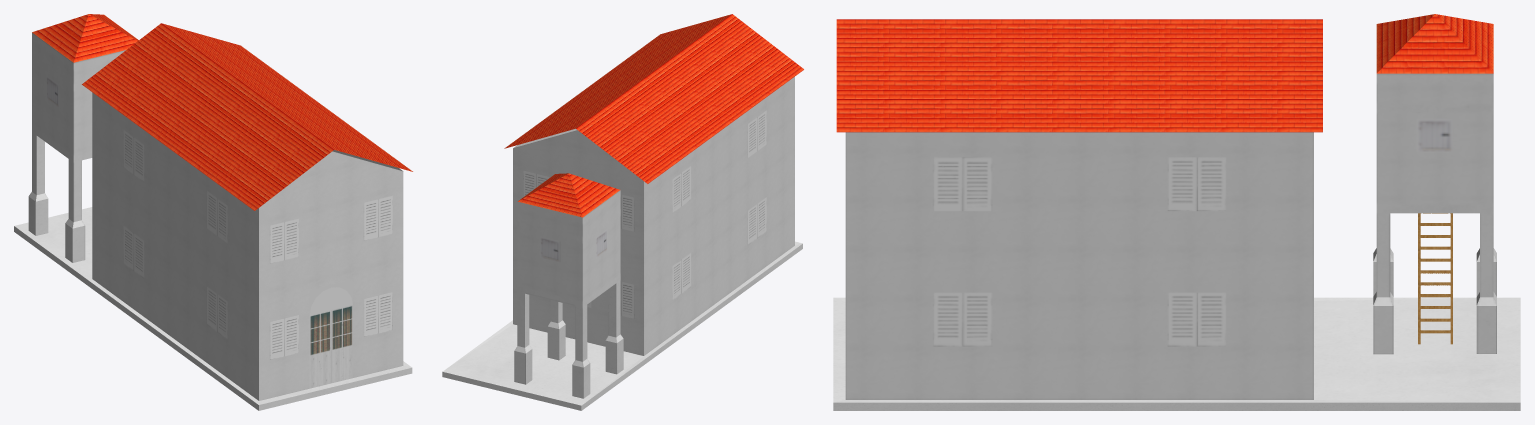
Rendered from House_3_LOD_1.fbx.
3 renders of one model, left to right at view 1: azimuth 30°, elevation 25°; view 2: azimuth 150°, elevation 25°; view 3: azimuth 270°, elevation 25°, orthographic. The views are drawn at different scales.
Parts seen in each view (by area): view 1: Cube; view 2: Cube; view 3: Cube.
Part boxes in pixels (<box>): Cube: <box>14,14,412,410</box>; Cube: <box>442,14,803,410</box>; Cube: <box>833,14,1520,410</box>.
Bounding box in the file's own units: 441 × 639 × 1174.
